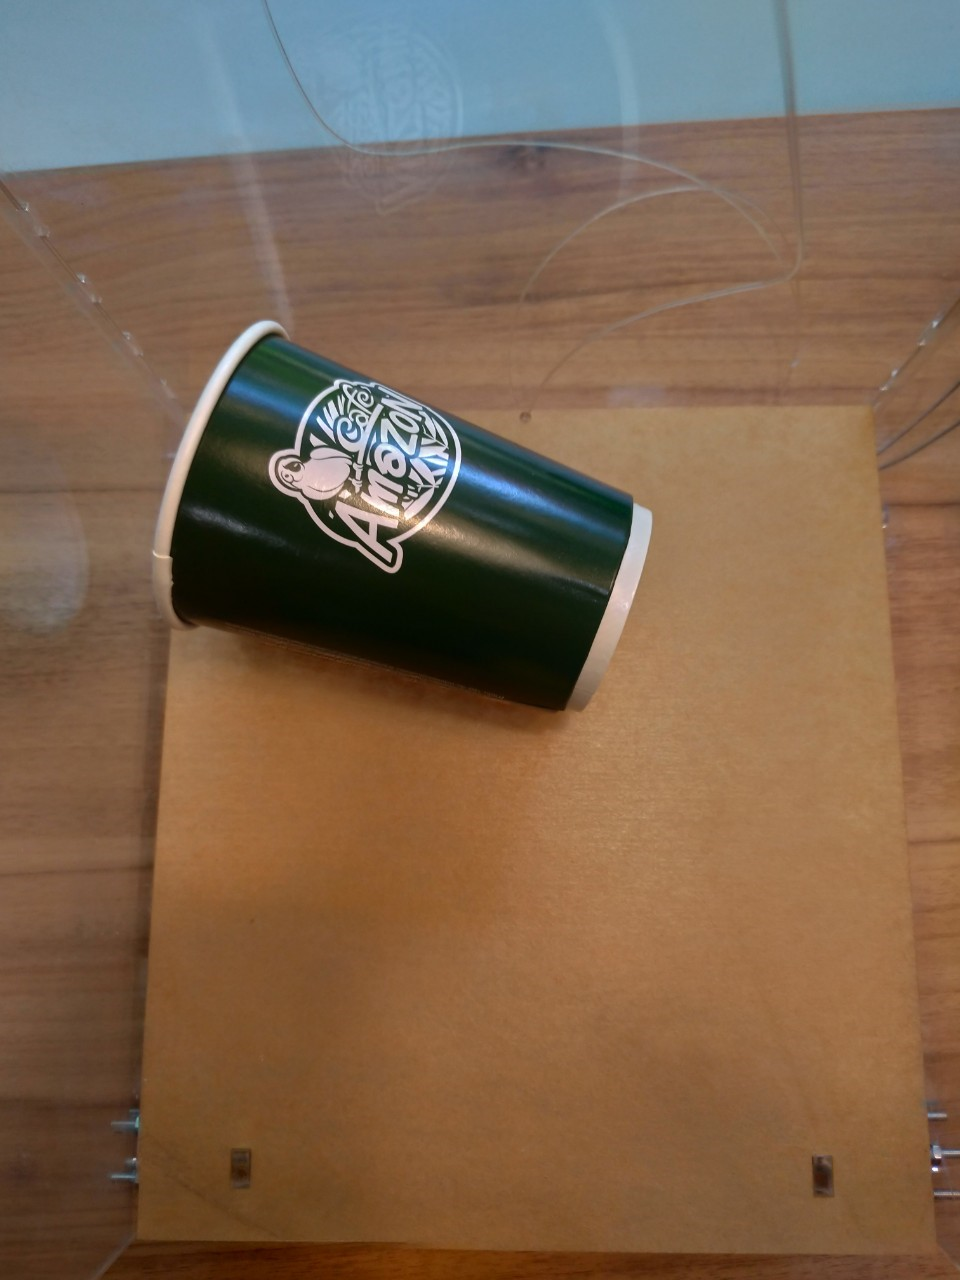PaperCup: (153, 317, 653, 715)
